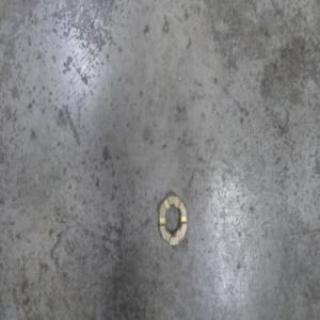Nuttrack_idkeyframe: (157, 188, 187, 247)
